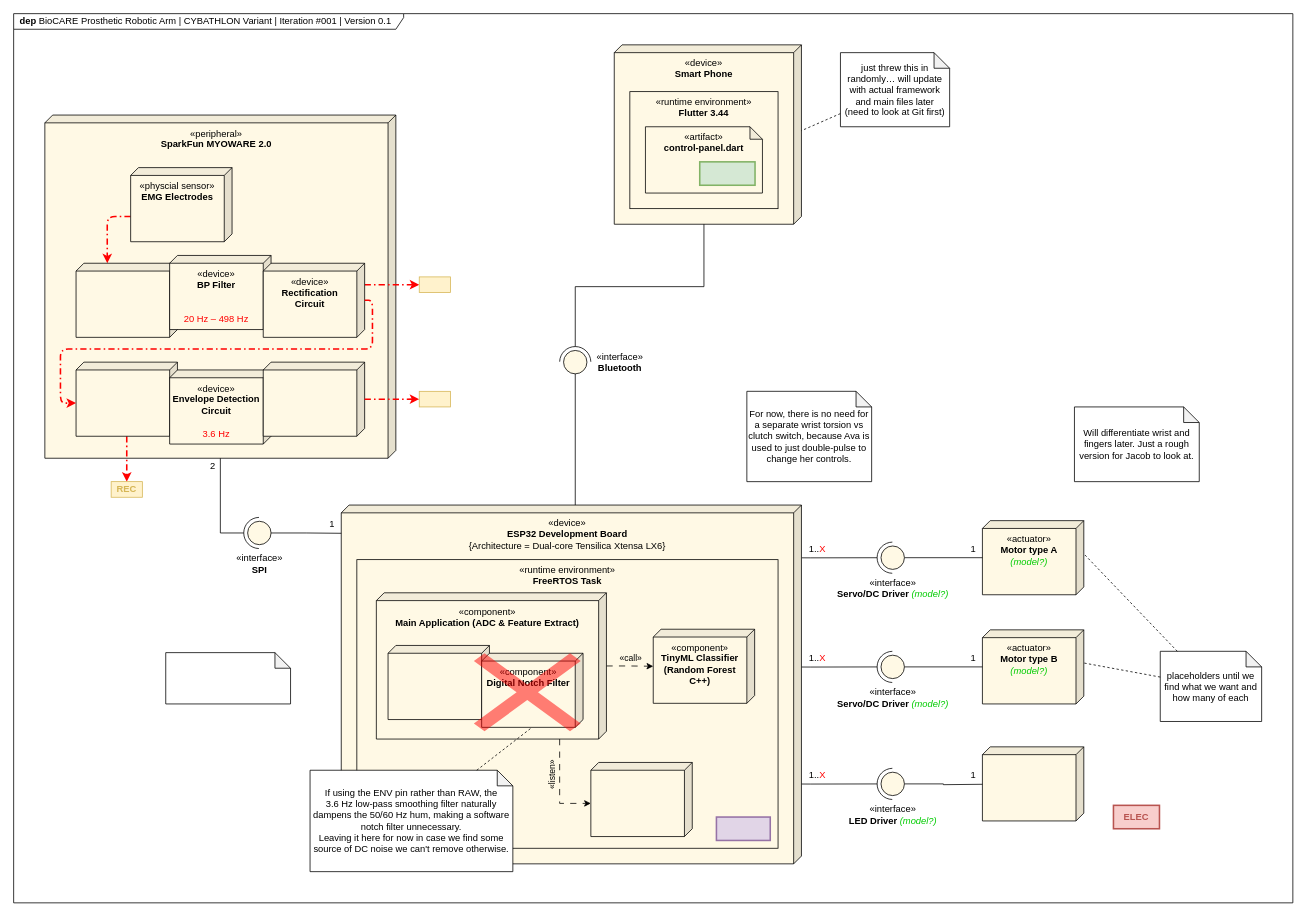
Image size: 1307x916. Some labels were removed from this diagram. The centre of each missing label's shape, as x and y in pixels:
ENV: point 434,399
MCU Replacement Candidate: Teensy 4.1: point 228,678
RAW: point 434,284
SW (APP): point 727,173
SW (FW): point 743,828
«component» 4th-order Butterworth filter: point 438,682
«component» Mobile App Watcher/Handler: point 641,799
«device» Adjustable Gain Amplifier Gain = 1x – 100x: point 313,398
«device» Instrumentation Amplifier Gain = 200x: point 126,299
«device» Offset Removal Circuit: point 126,398
«visual indicator» LED Set (model?): point 1033,783
